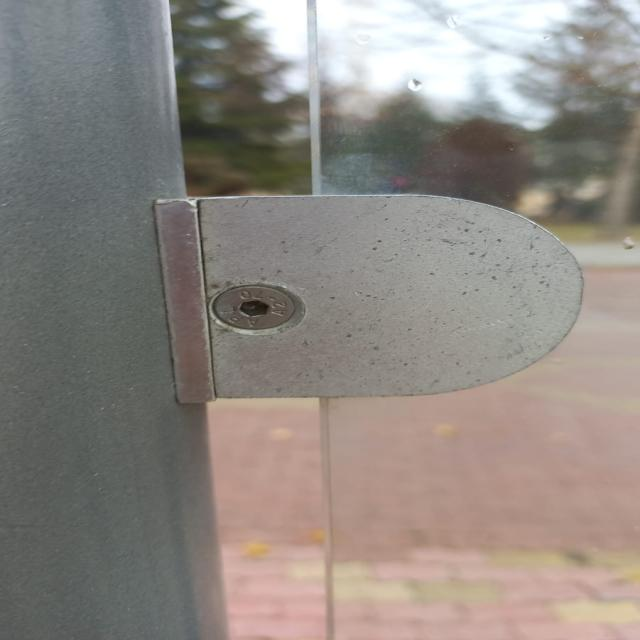Hex Socket Allen: (203, 278, 323, 338)
